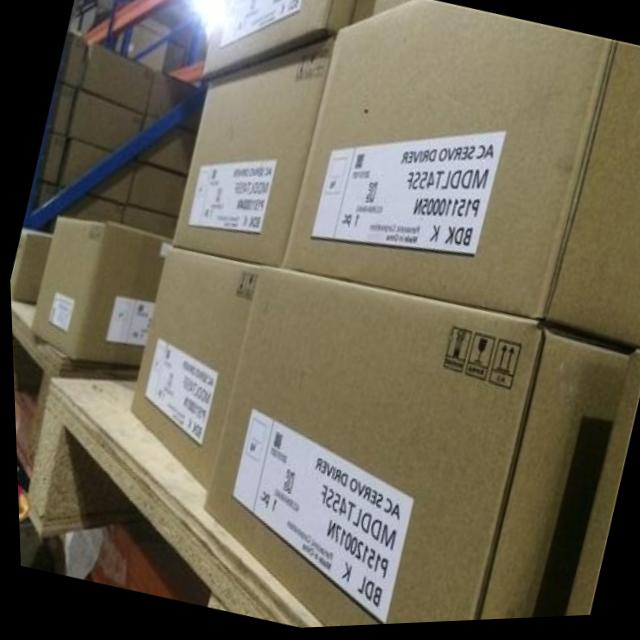box: (198, 267, 627, 630), (277, 0, 612, 325), (168, 40, 334, 270), (127, 248, 258, 493), (540, 45, 640, 351), (26, 216, 171, 369), (559, 356, 640, 621), (200, 0, 355, 78), (79, 42, 154, 116), (65, 90, 144, 152), (125, 164, 186, 218), (8, 228, 50, 306), (137, 129, 196, 176), (56, 137, 110, 187), (144, 73, 195, 119), (84, 162, 137, 206), (57, 195, 123, 226), (56, 30, 90, 90), (119, 205, 175, 239), (350, 0, 415, 27), (49, 84, 76, 136), (38, 134, 64, 185)
